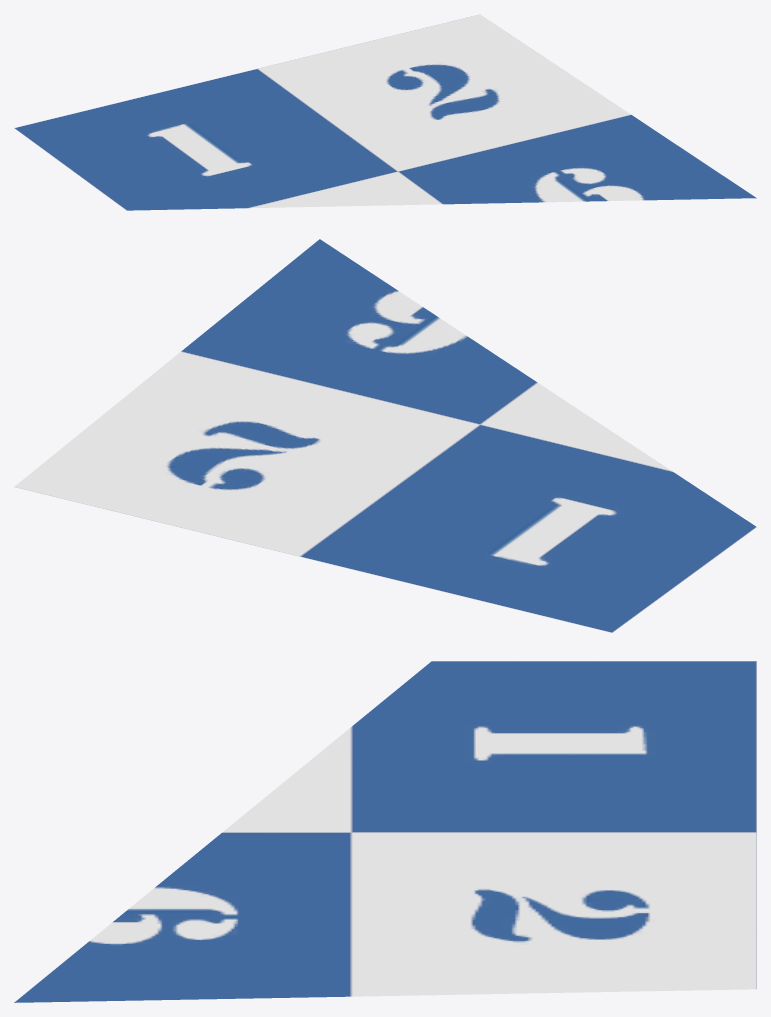
Rendered from Rui_Fragment1.fbx.
3 renders of one model, top to bottom at view 1: azimuth 30°, elevation 25°; view 2: azimuth 150°, elevation 25°; view 3: azimuth 270°, elevation 25°, orthographic. The views are drawn at different scales.
Visible parts, largest first — view 1: SM_e_Plc_P1007_Fragment001; view 2: SM_e_Plc_P1007_Fragment001; view 3: SM_e_Plc_P1007_Fragment001.
Boxes of the visible parts, x1,y1,x2,y2 form: SM_e_Plc_P1007_Fragment001: [14, 14, 756, 210]; SM_e_Plc_P1007_Fragment001: [14, 239, 756, 632]; SM_e_Plc_P1007_Fragment001: [14, 661, 756, 1002].
Bounding box in the file's own units: 49.84 × 1.02e-14 × 45.8.
